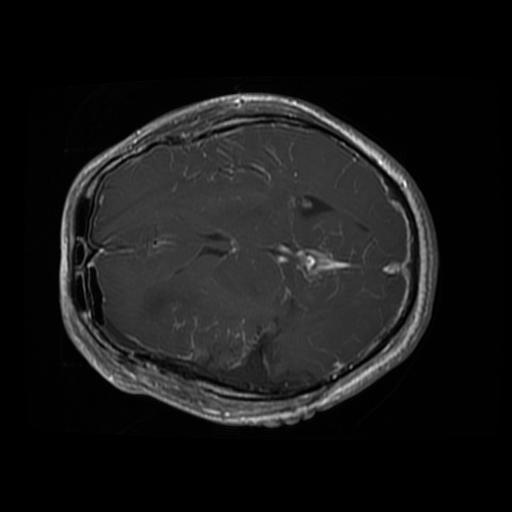glioma: (196, 317, 310, 392)
